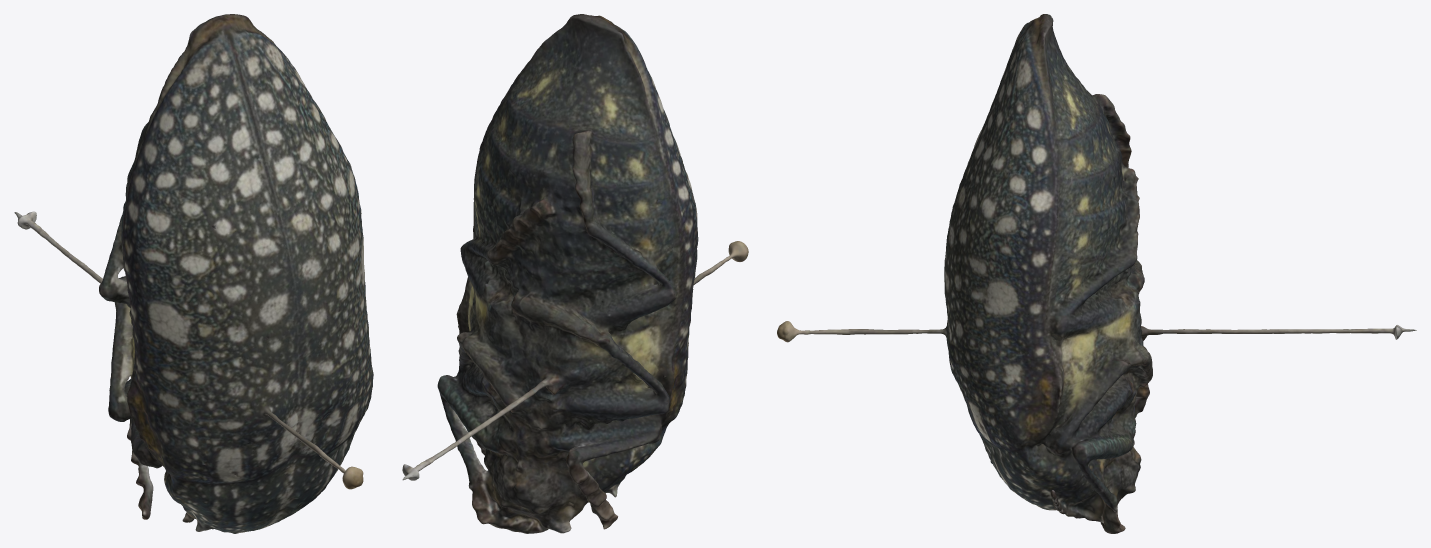
File: julodis.glb
The picture shows the model from 3 angles, left to right: view 1: azimuth 30°, elevation 25°; view 2: azimuth 150°, elevation 25°; view 3: azimuth 270°, elevation 25°; orthographic projection. The views are drawn at different scales.
Parts seen in each view (by area): view 1: Julodis_undetermined-unwrapped-webmulti; view 2: Julodis_undetermined-unwrapped-webmulti; view 3: Julodis_undetermined-unwrapped-webmulti.
Part boxes in pixels (<box>): Julodis_undetermined-unwrapped-webmulti: <box>14,14,373,533</box>; Julodis_undetermined-unwrapped-webmulti: <box>402,14,748,533</box>; Julodis_undetermined-unwrapped-webmulti: <box>777,14,1416,533</box>.
Size of the model in its own units: 0.0151 by 0.0312 by 0.0371.
1 material, 1 textured.
